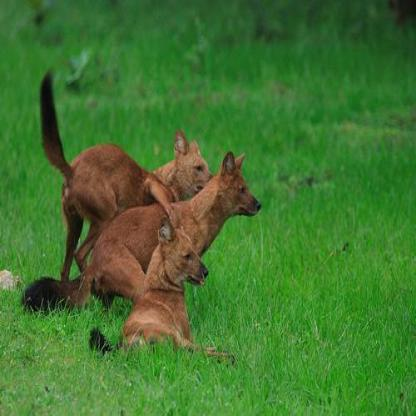dhole: (21, 146, 264, 315), (36, 65, 214, 285), (89, 214, 235, 362)
